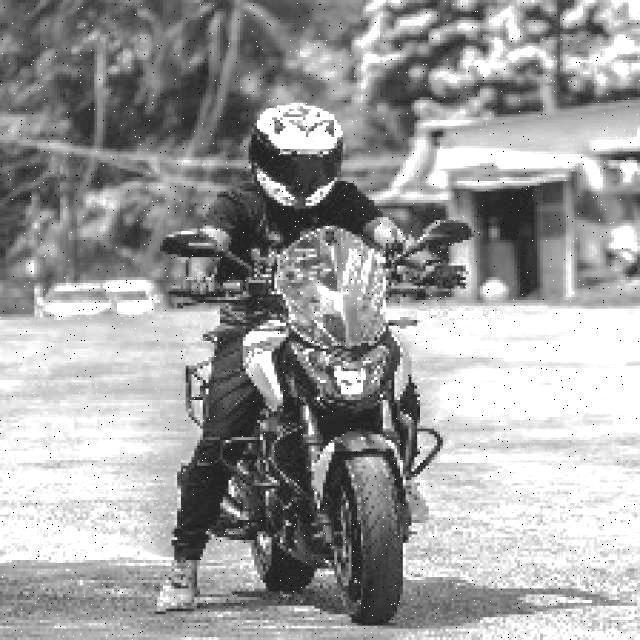Bike: (188, 231, 478, 620)
